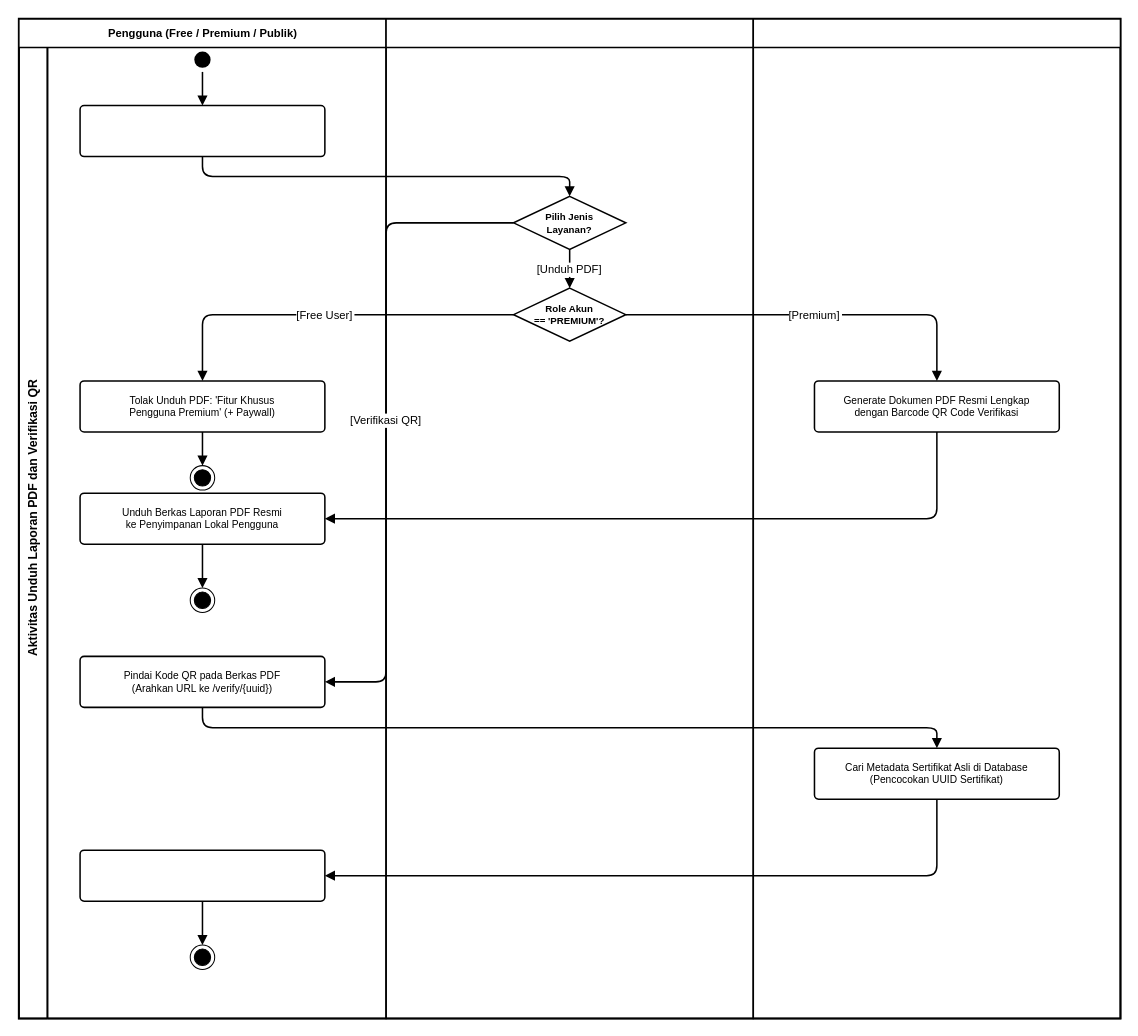
Some shapes in this 1138 by 1036 pixel diagram are drawn without their labels. Here are the shapes that lost their labels. From the top down, the box of each, then its label:
(79, 104, 325, 157): Pilih Aksi: Unduh Laporan PDF Resmi atau Pindai Kode QR Verifikasi
(385, 18, 754, 1019): Sistem VeriText AI (Report & QR API)
(752, 18, 1121, 1019): PDF Generator & Public QR Verifier
(79, 849, 325, 901): Tampilkan Halaman Verifikasi Publik: Status Sah, Pemilik & Skor Asli
